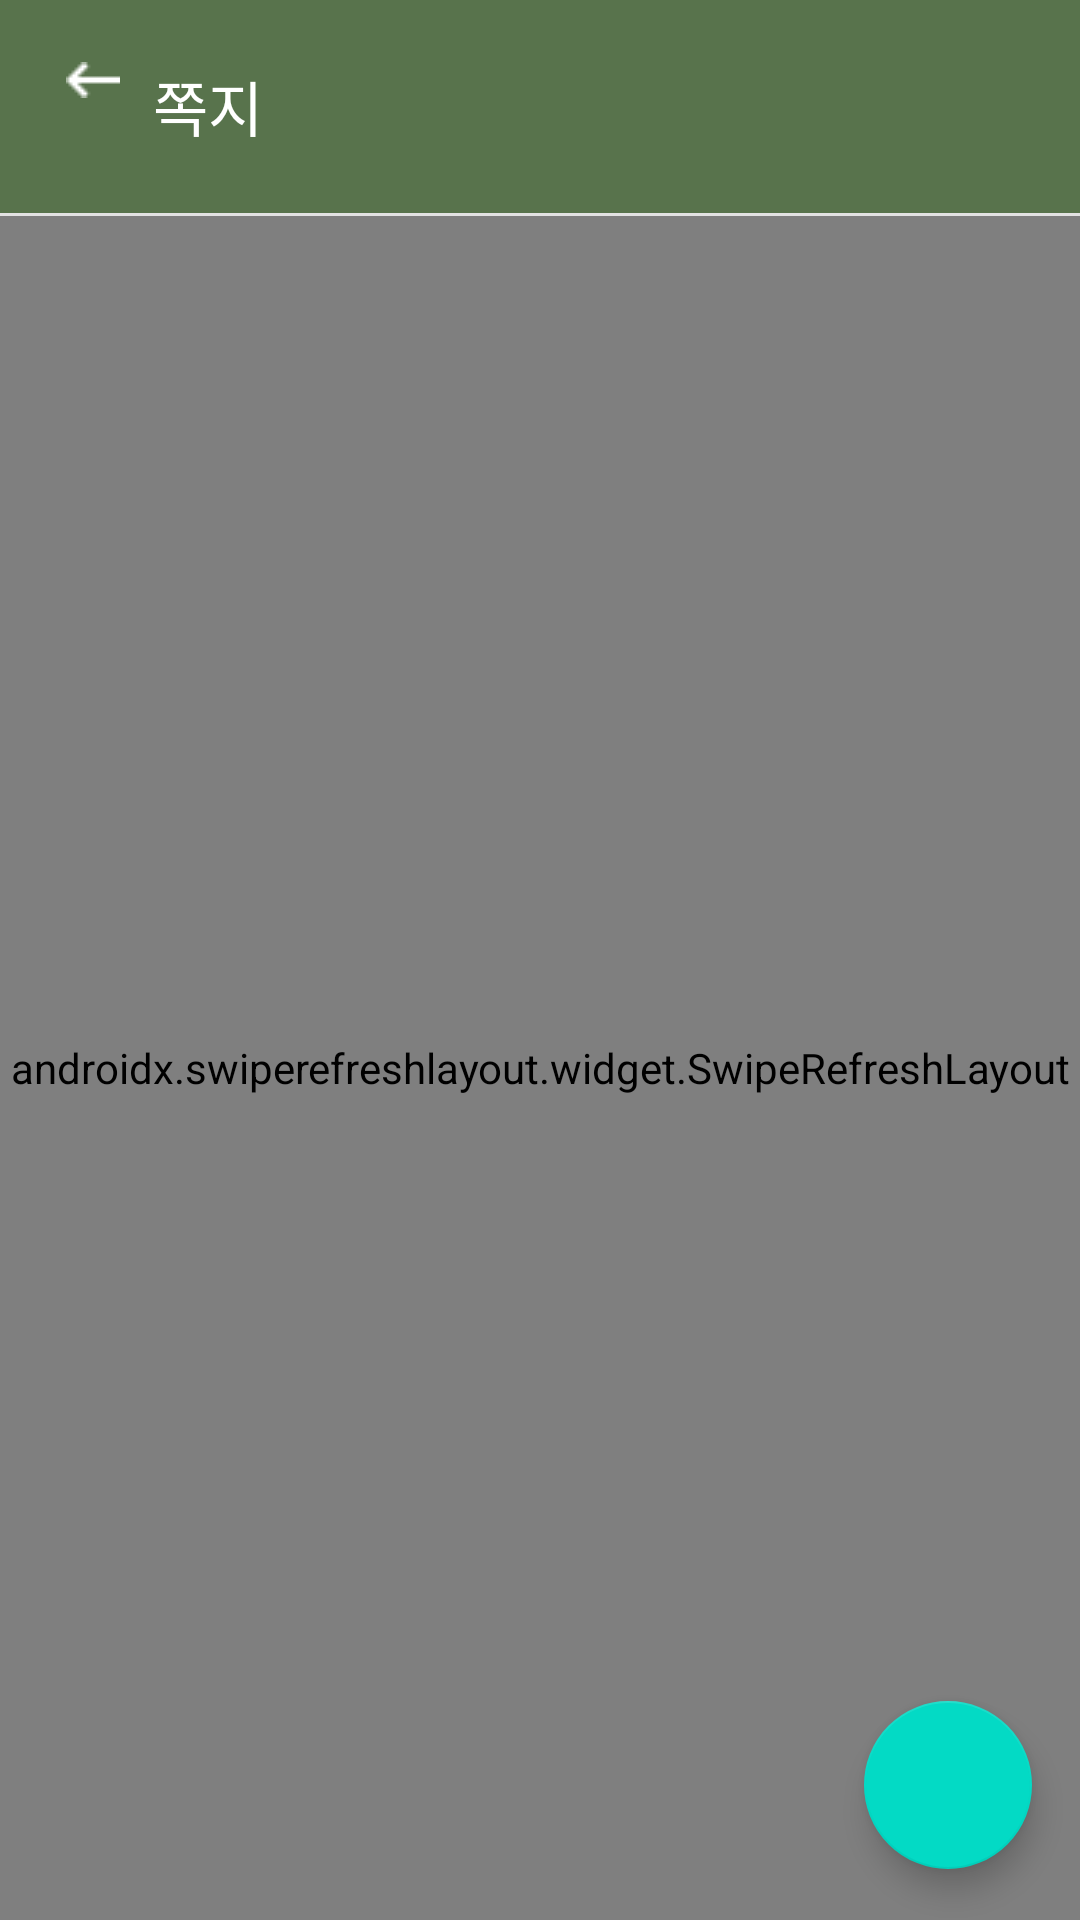

Icons on this 1080 × 1920 Android screen, each with its box as (x1, y1, x2, y2):
back: (66, 62, 120, 98)
